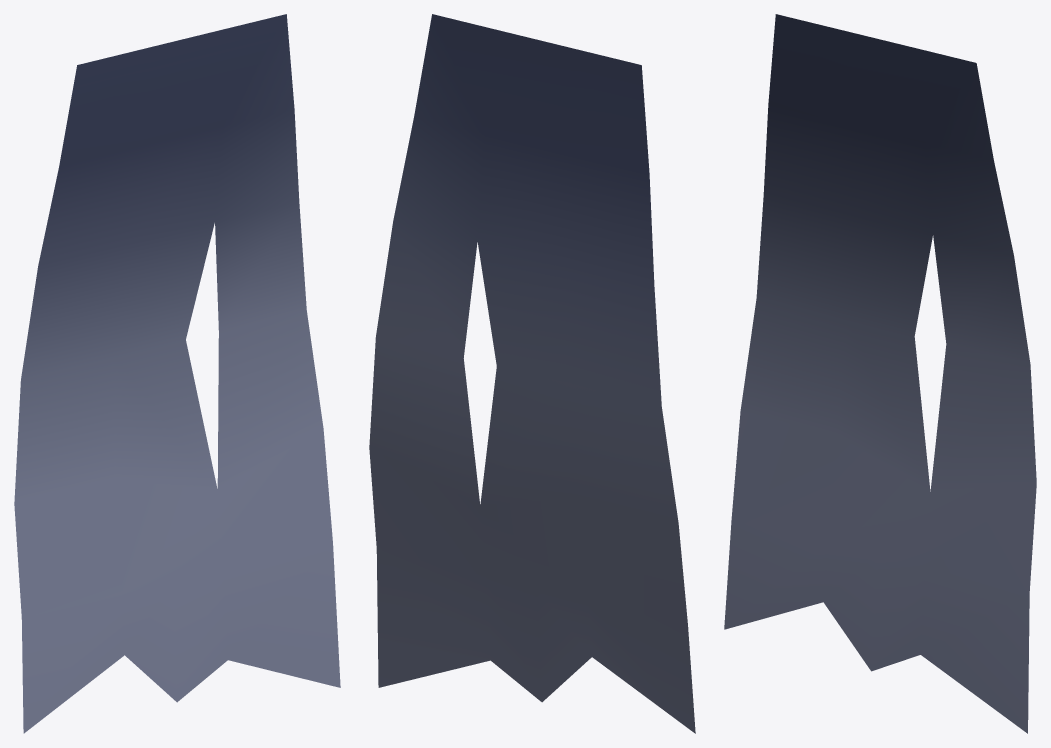
File: Tissue.fbx
3 views of the same model, side by side, from view 1: azimuth 30°, elevation 25°; view 2: azimuth 150°, elevation 25°; view 3: azimuth 330°, elevation 25° (orthographic). The views are drawn at different scales.
Visible parts, largest first — view 1: Tissue; view 2: Tissue; view 3: Tissue.
Part boxes in pixels (x1=…): Tissue: x1=14, y1=14, x2=340, y2=733; Tissue: x1=369, y1=14, x2=695, y2=733; Tissue: x1=724, y1=14, x2=1036, y2=733.
Bounding box in the file's own units: 10.96 × 22.7 × 1.09.
